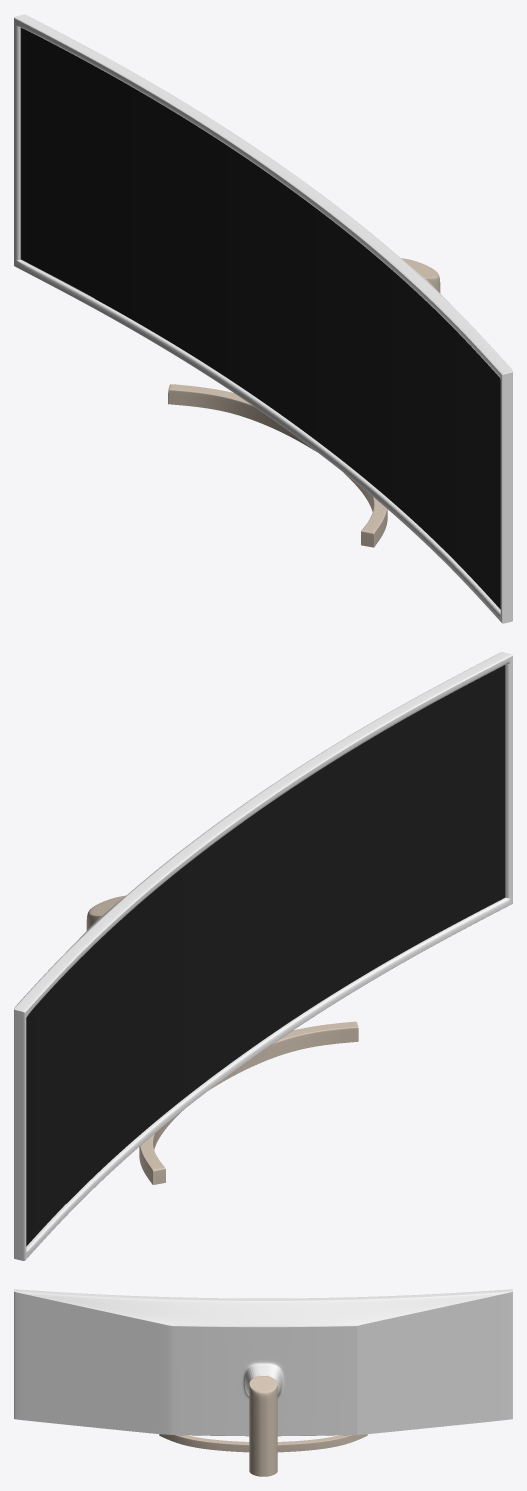
Rendered from 32x9_49Monitor.glb.
3 renders of one model, top to bottom at view 1: azimuth 30°, elevation 25°; view 2: azimuth 150°, elevation 25°; view 3: azimuth 270°, elevation 25°, orthographic. The views are drawn at different scales.
Parts seen in each view (by area): view 1: Cylinder; view 2: Cylinder; view 3: Cylinder.
Part boxes in pixels (x1=…): Cylinder: x1=14, y1=14, x2=512, y2=623; Cylinder: x1=14, y1=652, x2=512, y2=1260; Cylinder: x1=14, y1=1289, x2=512, y2=1476.
Size of the model in its own units: 10.02 by 14.97 by 47.2.
